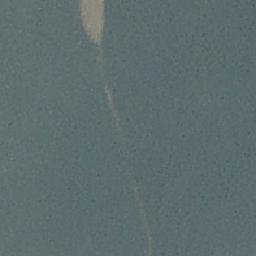debris: (78, 1, 105, 45)
